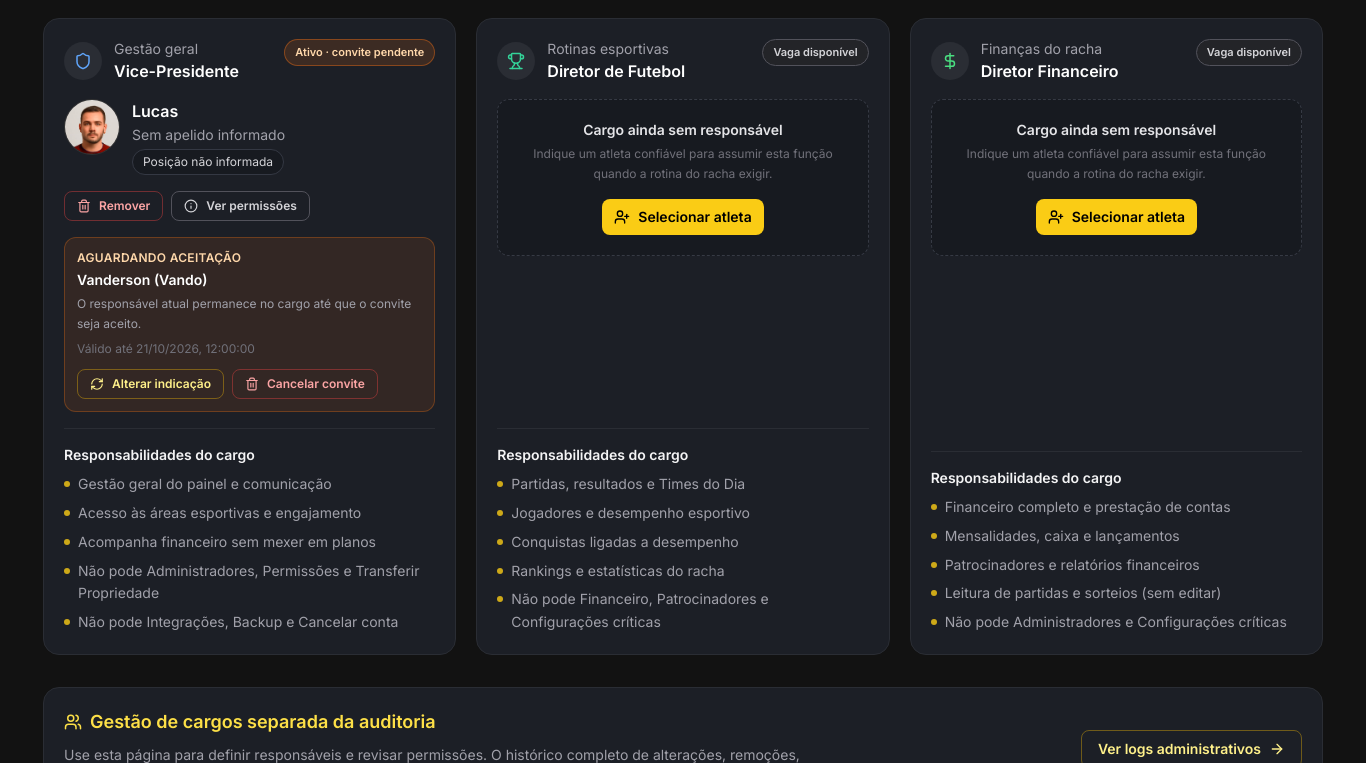
Test: AdministradoresClient pending invites › cancela o convite específico sem remover o ocupante
(page scrolled)
Click the button "Cancelar convite" at (305, 384), box [232, 369, 378, 399]
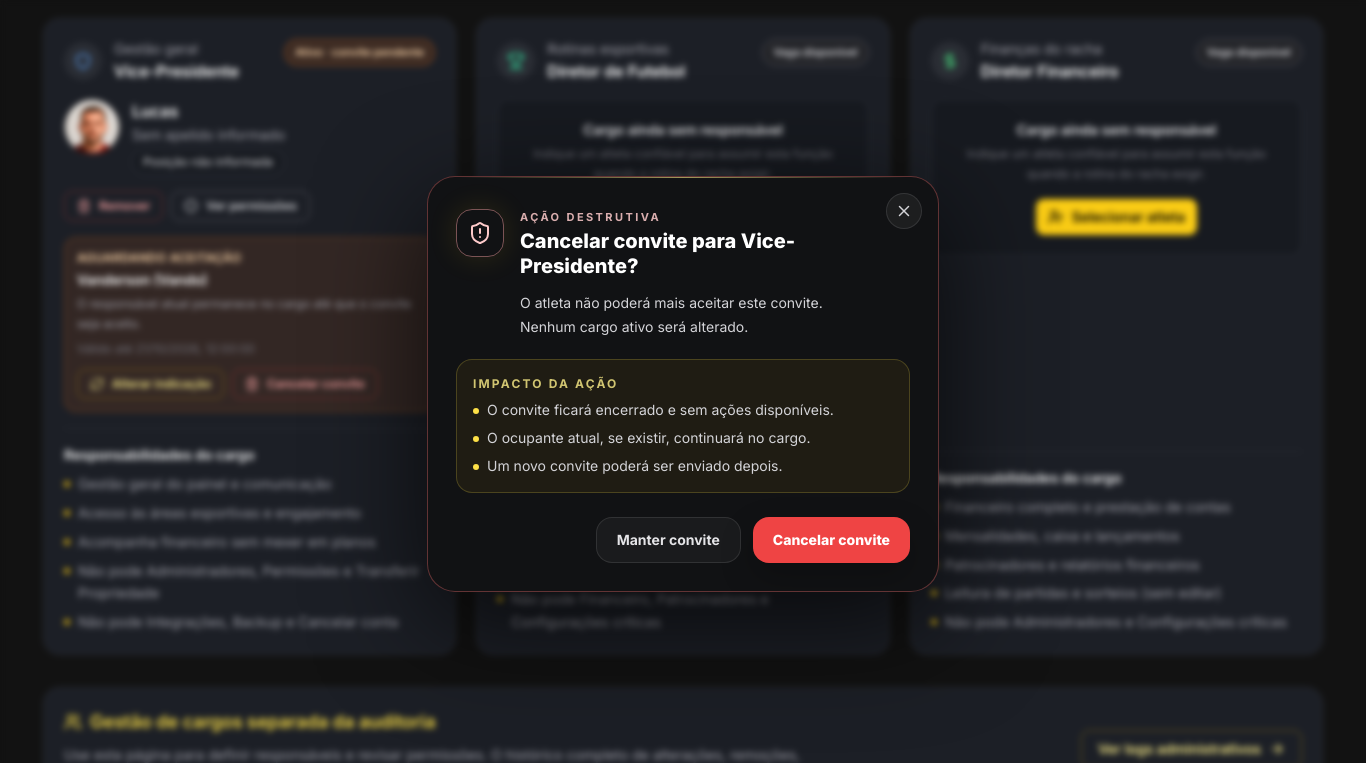
Click the button "Cancelar convite" at (831, 540), box [753, 517, 910, 563]
(page scrolled)
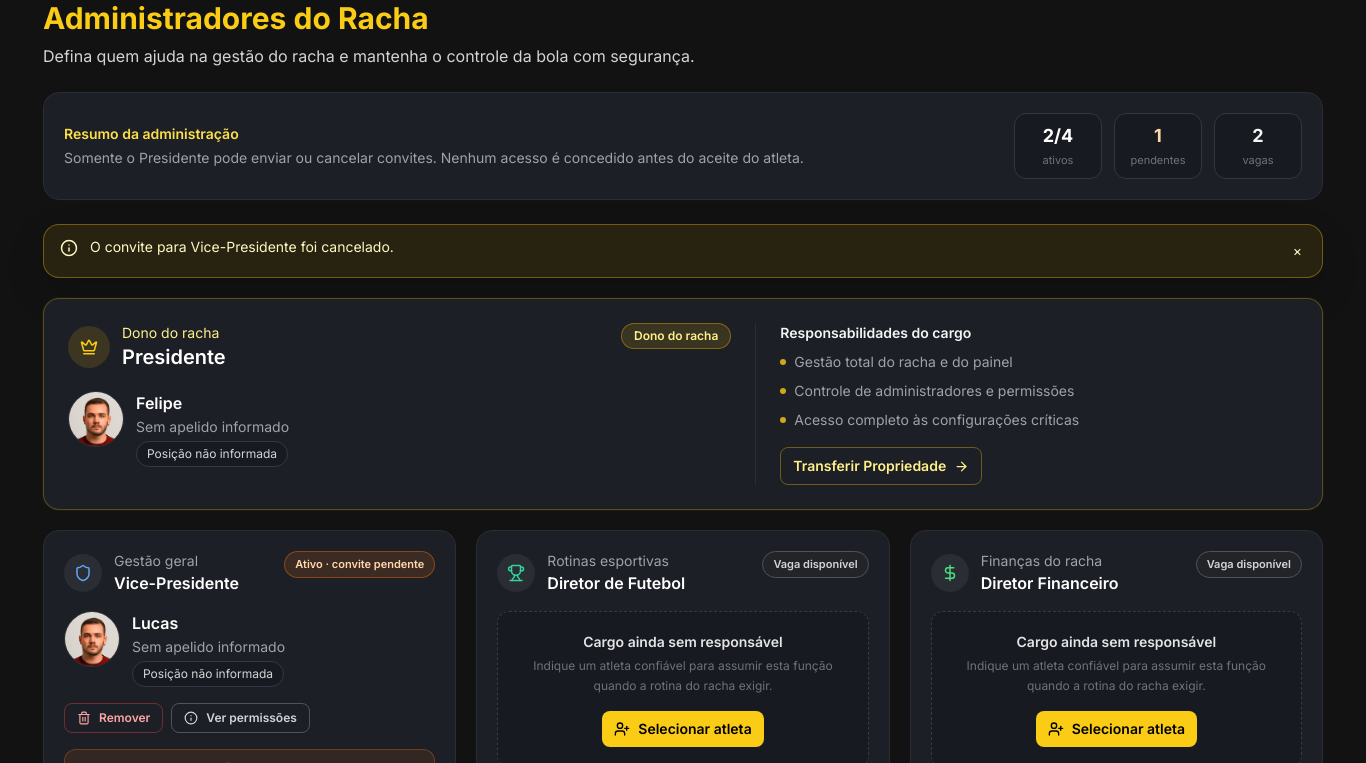
Expected: the text "O convite para Vice-Presidente foi cancelado." is shown, [90, 238, 394, 255]
